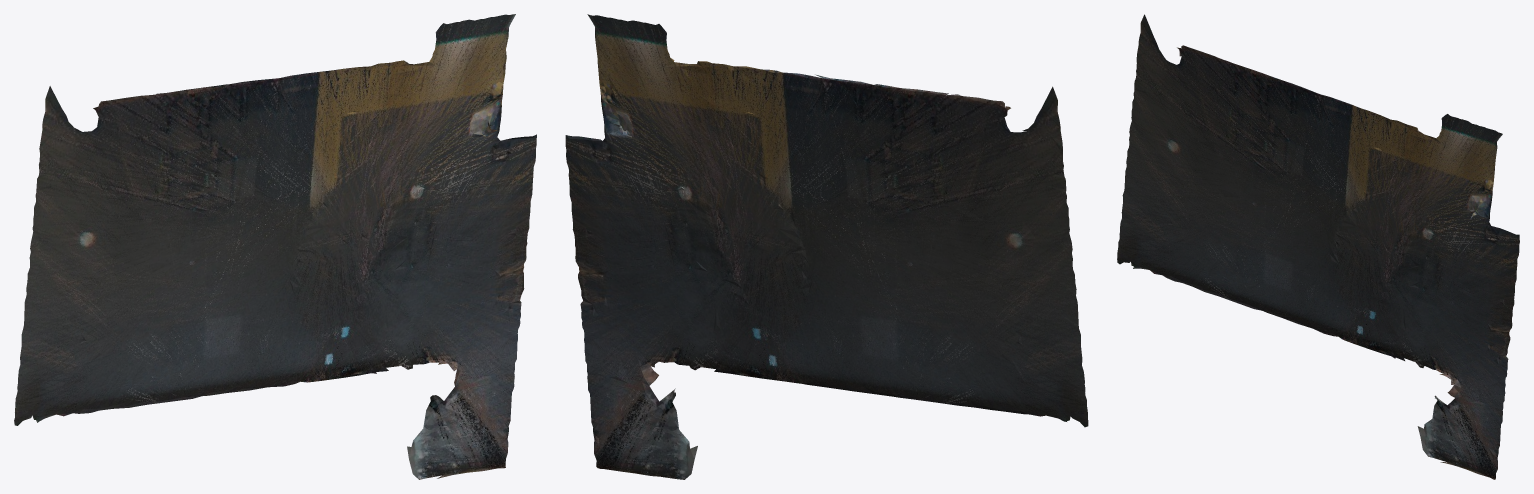
The picture shows the model from 3 angles, left to right: view 1: azimuth 30°, elevation 25°; view 2: azimuth 150°, elevation 25°; view 3: azimuth 330°, elevation 25°; orthographic projection. The views are drawn at different scales.
Parts seen in each view (by area): view 1: 1-dynamic_-_BLK2GO-3630355-Scan_080_28_0; view 2: 1-dynamic_-_BLK2GO-3630355-Scan_080_28_0; view 3: 1-dynamic_-_BLK2GO-3630355-Scan_080_28_0.
Part boxes in pixels (left/top/right/bottom): 1-dynamic_-_BLK2GO-3630355-Scan_080_28_0: left=14, top=14, right=536, bottom=479; 1-dynamic_-_BLK2GO-3630355-Scan_080_28_0: left=565, top=14, right=1088, bottom=479; 1-dynamic_-_BLK2GO-3630355-Scan_080_28_0: left=1117, top=14, right=1519, bottom=479.
Bounding box in the file's own units: 8.45 × 7.62 × 0.3842.
